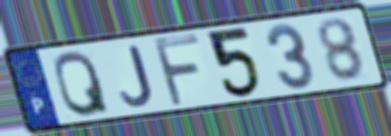3: (265, 21, 316, 92)
5: (202, 24, 264, 100)
8: (315, 17, 367, 84)
F: (150, 32, 205, 110)
J: (118, 43, 156, 108)
Q: (52, 48, 113, 119)
